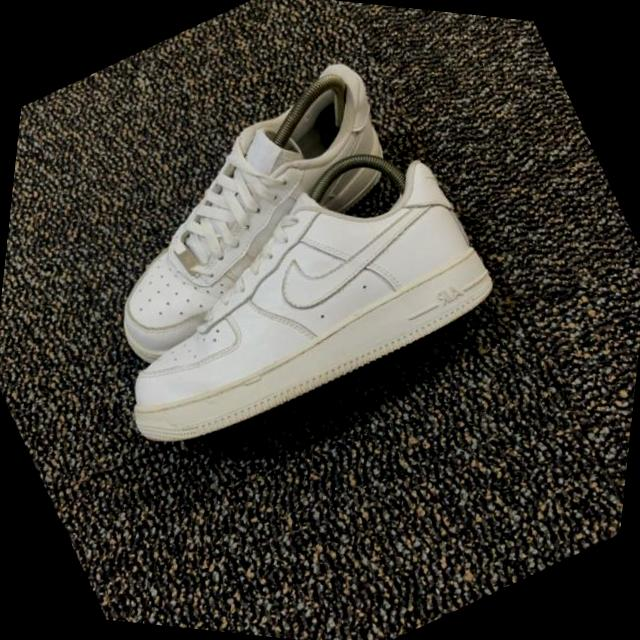nike_fake_airforce: (51, 94, 520, 503), (39, 32, 452, 401)
